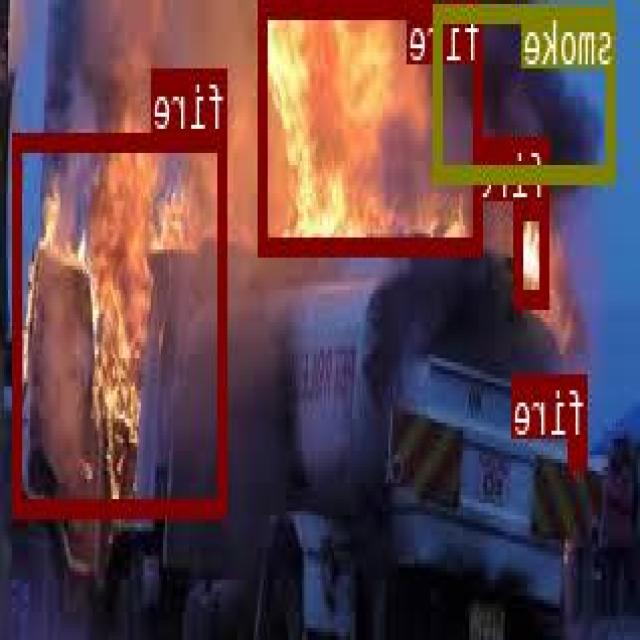fire: (14, 131, 229, 515), (261, 0, 484, 250), (516, 200, 550, 302), (570, 435, 588, 465)
smoke: (435, 4, 618, 180)
